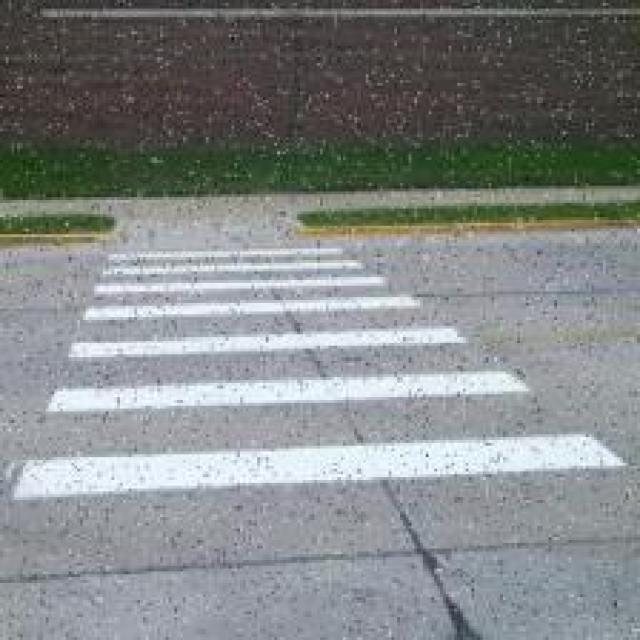walk-crossing: (10, 230, 639, 504)
